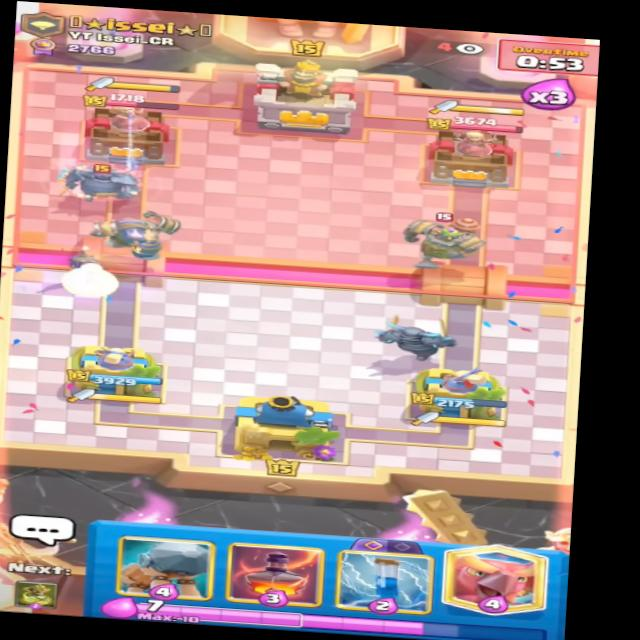goblin-machine: (391, 208, 504, 270)
pekka: (50, 155, 144, 204)
